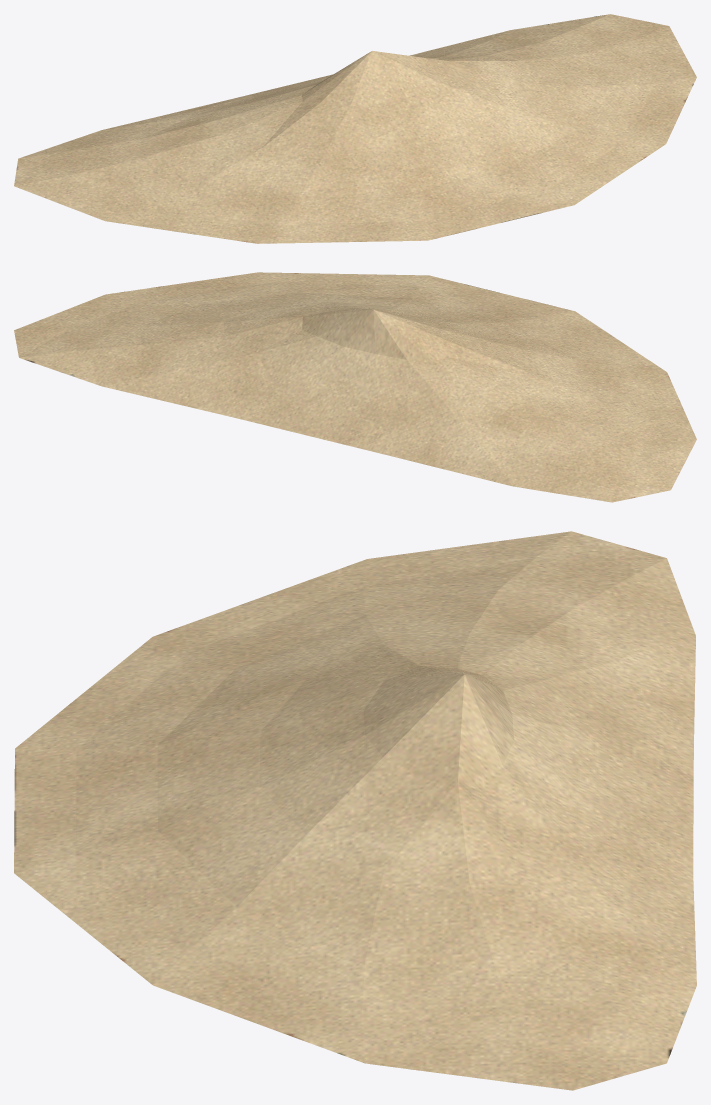
File: SM_Dune_B.fbx
The picture shows the model from 3 angles, top to bottom: view 1: azimuth 30°, elevation 25°; view 2: azimuth 150°, elevation 25°; view 3: azimuth 270°, elevation 25°; orthographic projection. The views are drawn at different scales.
Visible parts, largest first — view 1: SM_Dune_B; view 2: SM_Dune_B; view 3: SM_Dune_B.
Boxes of the visible parts, x1,y1,x2,y2 form: SM_Dune_B: (14,14,696,243); SM_Dune_B: (14,272,696,502); SM_Dune_B: (14,531,696,1090).
Size of the model in its own units: 19970 by 2269 by 10306.
1 material, 1 textured.
